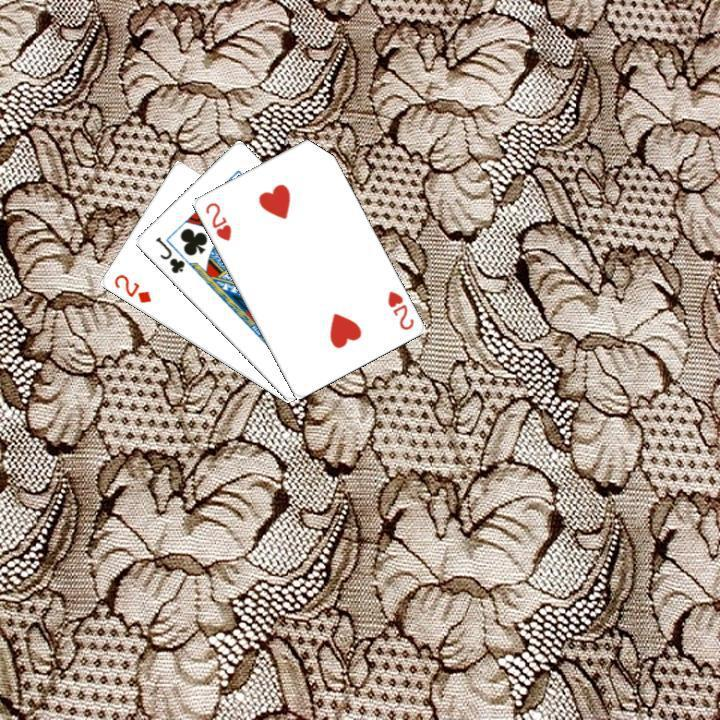2: (382, 286, 416, 332), (109, 270, 153, 305), (201, 198, 233, 243)
J: (151, 232, 187, 276)
